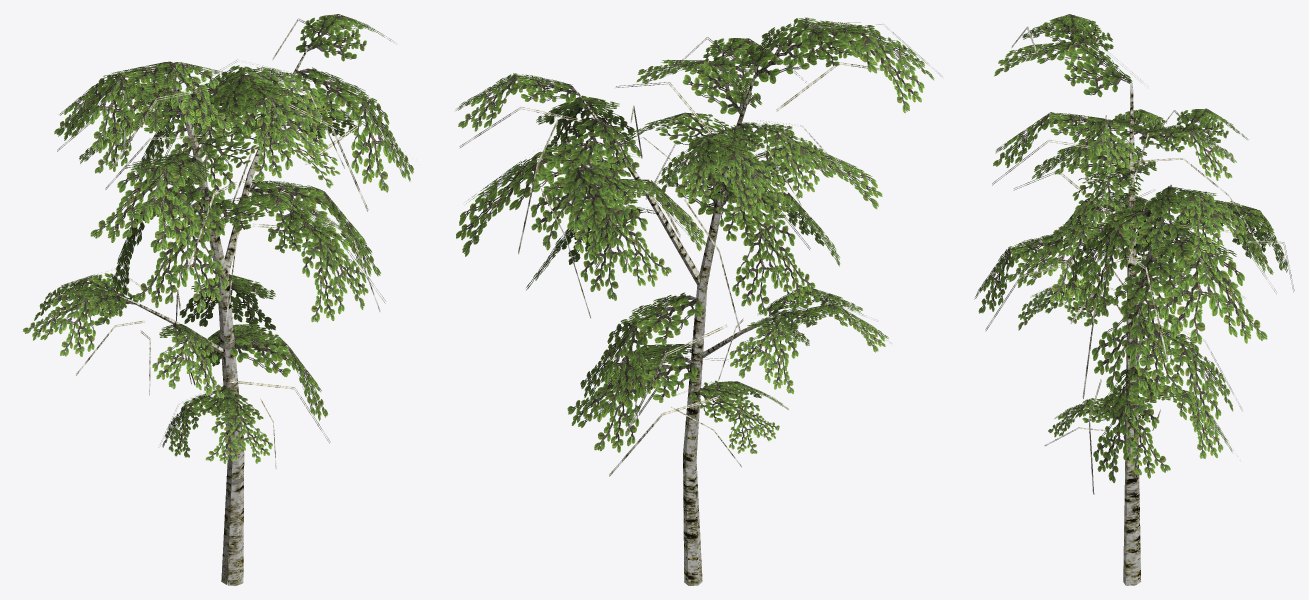
Rendered from abedul_a.glb.
3 views of the same model, side by side, from view 1: azimuth 30°, elevation 25°; view 2: azimuth 150°, elevation 25°; view 3: azimuth 270°, elevation 25° (orthographic). The views are drawn at different scales.
Visible parts, largest first — view 1: Modelo; view 2: Modelo; view 3: Modelo.
Part boxes in pixels (x1,y1,x2,y2): Modelo: (22,14,413,585); Modelo: (455,17,942,585); Modelo: (974,14,1294,585).
Bounding box in the file's own units: 6.24 × 8.15 × 4.71.
Materials: 1 (1 with a texture image).
